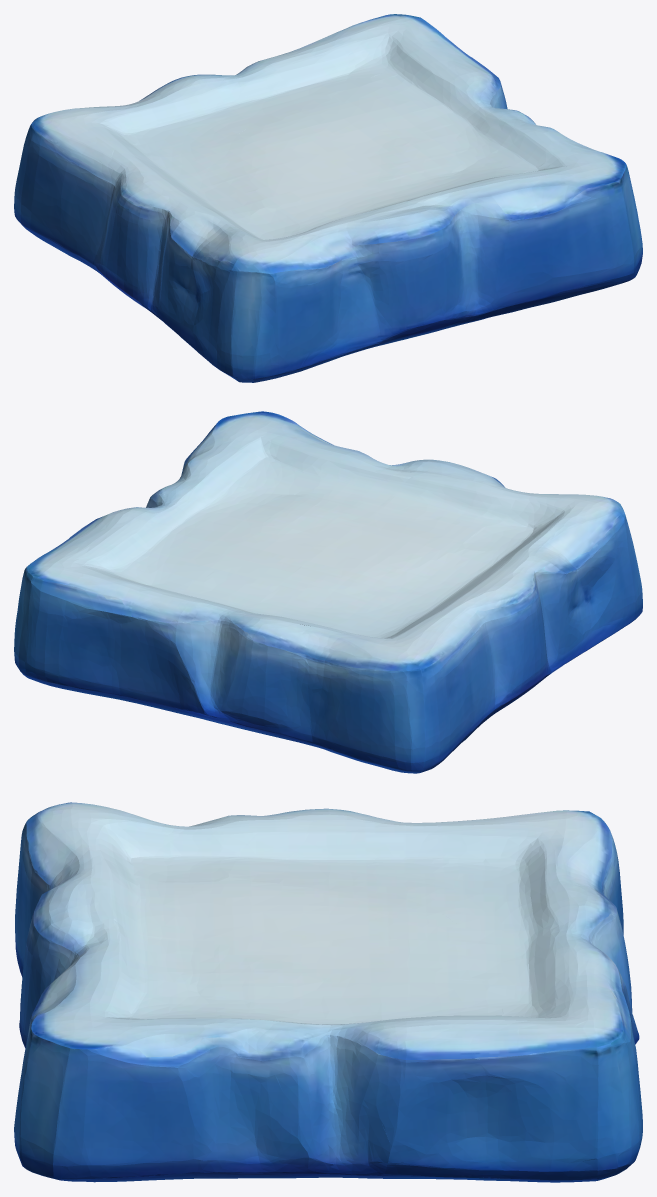
Rendered from floor_clouds.glb.
The picture shows the model from 3 angles, top to bottom: view 1: azimuth 30°, elevation 25°; view 2: azimuth 150°, elevation 25°; view 3: azimuth 270°, elevation 25°; orthographic projection. The views are drawn at different scales.
Parts seen in each view (by area): view 1: world; view 2: world; view 3: world.
Part boxes in pixels (<box>): world: <box>14,14,642,382</box>; world: <box>14,411,642,773</box>; world: <box>14,802,642,1182</box>.
Bounding box in the file's own units: 0.9958 × 0.269 × 0.992.
Materials: 1 (1 with a texture image).
